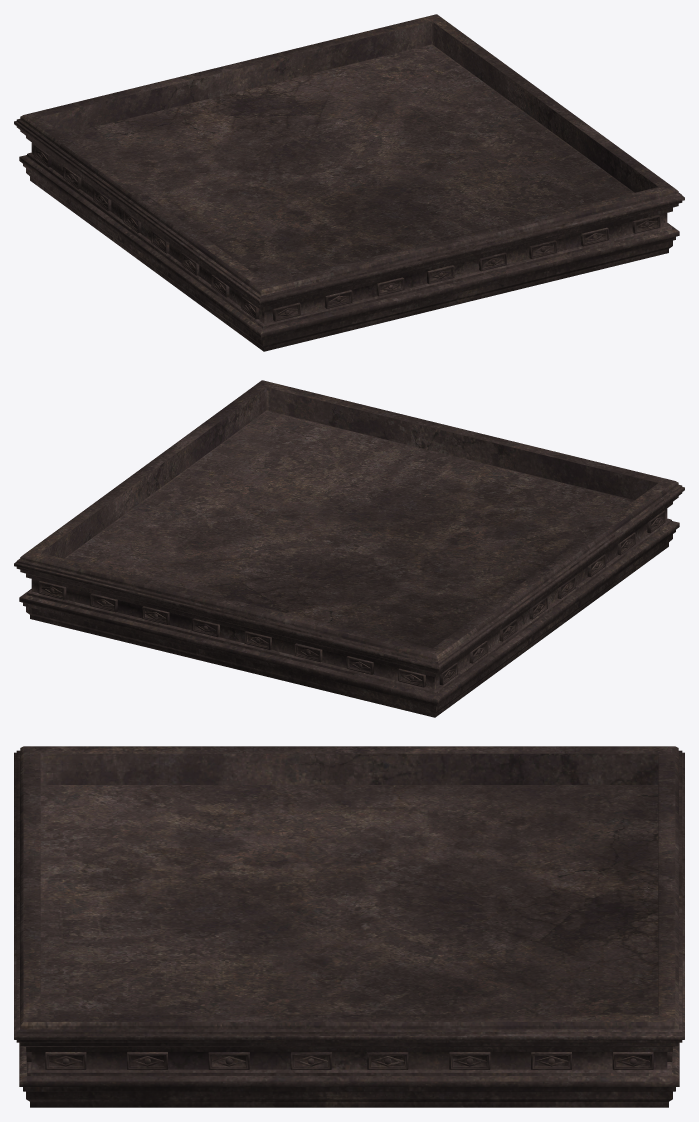
The model's file is SK1 ROOF SMALL.fbx.
3 renders of one model, top to bottom at view 1: azimuth 30°, elevation 25°; view 2: azimuth 150°, elevation 25°; view 3: azimuth 270°, elevation 25°, orthographic. The views are drawn at different scales.
Visible parts, largest first — view 1: SK1 ROOF SMALL.001; view 2: SK1 ROOF SMALL.001; view 3: SK1 ROOF SMALL.001.
Boxes of the visible parts, x1,y1,x2,y2 form: SK1 ROOF SMALL.001: (14,14,684,351); SK1 ROOF SMALL.001: (14,380,684,717); SK1 ROOF SMALL.001: (14,746,684,1107).
Bounding box in the file's own units: 1689 × 246 × 1689.
